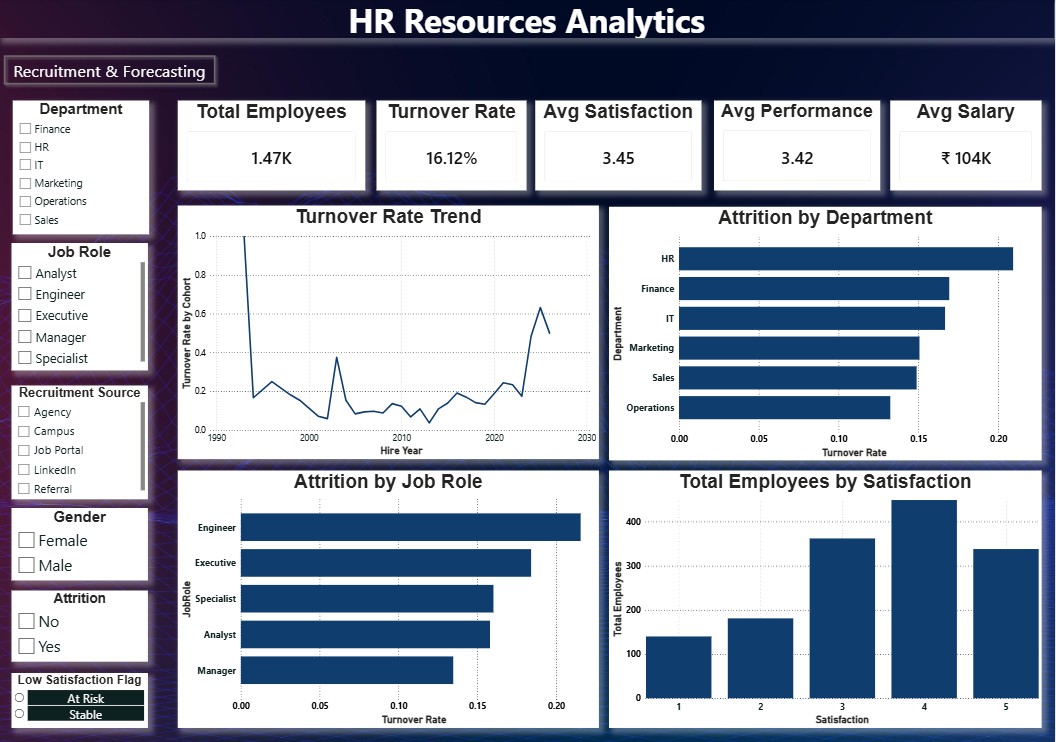

This screenshot's page, from the dashboard's own definition file:
{"tool":"powerbi","page":{"name":"Overview & Attrition","canvas":[1980,1400],"ordinal":0},"visuals":[{"type":"shape","title":"HR Resources Analytics","box":[0,0,1979.9,75.1],"z":0},{"type":"cardVisual","title":"Total Employees","fields":{"Data":["HR Resource Analytics.Total Employees"]},"box":[335.5,192.4,351.9,168.9],"z":1000},{"type":"cardVisual","title":"Turnover Rate","fields":{"Data":["HR Resource Analytics.Turnover Rate"]},"box":[708.4,192.4,281.5,168.9],"z":2000},{"type":"cardVisual","title":"Avg Satisfaction","fields":{"Data":["HR Resource Analytics.Avg Satisfaction"]},"box":[1006.4,192.4,312,168.9],"z":3000},{"type":"cardVisual","title":"Avg Performance ","fields":{"Data":["HR Resource Analytics.Avg Performance Rating"]},"box":[1341.8,192.4,312,168.9],"z":4000},{"type":"cardVisual","title":"Avg Salary","fields":{"Data":["HR Resource Analytics.Avg Salary"]},"box":[1672.6,192.4,283.8,168.9],"z":5000},{"type":"lineChart","title":"Turnover Rate Trend","fields":{"Category":["HR Resource Analytics.Hire Year"],"Y":["HR Resource Analytics.Turnover Rate by Cohort"]},"box":[335.5,389.4,790.6,476.2],"z":6000},{"type":"clusteredBarChart","title":"Attrition by Department","fields":{"Category":["HR Resource Analytics.Department"],"Y":["HR Resource Analytics.Turnover Rate"]},"box":[1144.8,391.8,811.7,476.2],"z":7000},{"type":"clusteredBarChart","title":"Attrition by Job Role","fields":{"Category":["HR Resource Analytics.JobRole"],"Y":["HR Resource Analytics.Turnover Rate"]},"box":[335.5,886.7,790.6,483.2],"z":8000},{"type":"clusteredColumnChart","fields":{"Category":["HR Resource Analytics.Satisfaction"],"Y":["HR Resource Analytics.Total Employees"]},"box":[1144.8,886.7,811.7,483.2],"z":9000},{"type":"listSlicer","fields":{"Values":["HR Resource Analytics.Low Satisfaction Flag"]},"box":[23.5,1266.8,255.7,103.2],"z":10000},{"type":"slicer","title":"Attrition","fields":{"Values":["HR Resource Analytics.Attrition"]},"box":[23.5,1111.9,255.7,133.7],"z":11000},{"type":"slicer","title":"Gender","fields":{"Values":["HR Resource Analytics.Gender"]},"box":[23.5,957.1,255.7,136.1],"z":12000},{"type":"slicer","title":"Recruitment Source","fields":{"Values":["HR Resource Analytics.RecruitmentSource"]},"box":[23.5,727.2,255.7,213.5],"z":13000},{"type":"slicer","title":"Job Role","fields":{"Values":["HR Resource Analytics.JobRole"]},"box":[23.5,459.8,255.7,239.3],"z":14000},{"type":"slicer","title":"Department","fields":{"Values":["HR Resource Analytics.Department"]},"box":[25.8,192.4,255.7,251],"z":15000},{"type":"actionButton","title":"Recruitment & Forecasting","box":[0,98.5,415.2,72.7],"z":16001}]}

Visuals, with their boxes in screenshot pixels (x1, y1, x2, y2), scaled from the page's 1980x1400 canvas onto the 1056x742 screenshot:
"HR Resources Analytics" shape: detection(0, 0, 1055, 40)
"Total Employees" cardVisual: detection(179, 102, 367, 191)
"Turnover Rate" cardVisual: detection(378, 102, 528, 191)
"Avg Satisfaction" cardVisual: detection(537, 102, 703, 191)
"Avg Performance " cardVisual: detection(716, 102, 882, 191)
"Avg Salary" cardVisual: detection(892, 102, 1043, 191)
"Turnover Rate Trend" lineChart: detection(179, 206, 601, 459)
"Attrition by Department" clusteredBarChart: detection(611, 208, 1043, 460)
"Attrition by Job Role" clusteredBarChart: detection(179, 470, 601, 726)
clusteredColumnChart - HR Resource Analytics.Satisfaction x HR Resource Analytics.Total Employees: detection(611, 470, 1043, 726)
listSlicer - HR Resource Analytics.Low Satisfaction Flag: detection(13, 671, 149, 726)
"Attrition" slicer: detection(13, 589, 149, 660)
"Gender" slicer: detection(13, 507, 149, 579)
"Recruitment Source" slicer: detection(13, 385, 149, 499)
"Job Role" slicer: detection(13, 244, 149, 371)
"Department" slicer: detection(14, 102, 150, 235)
"Recruitment & Forecasting" actionButton: detection(0, 52, 221, 91)
